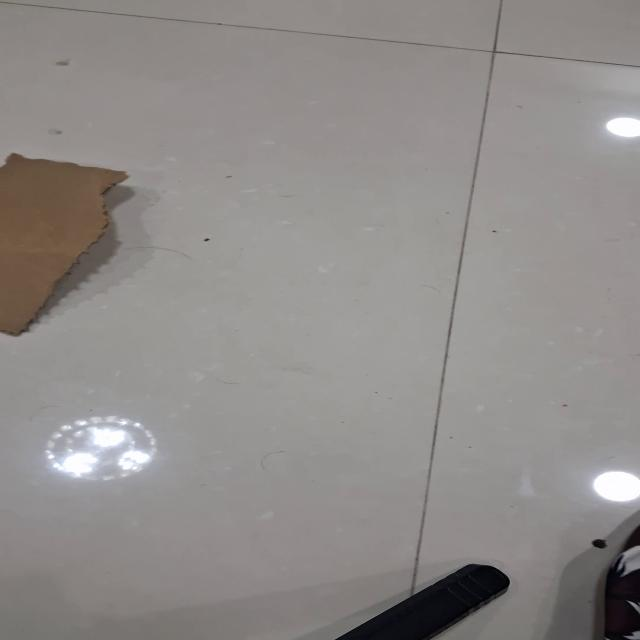paper: (1, 1, 638, 639), (0, 152, 130, 336)
